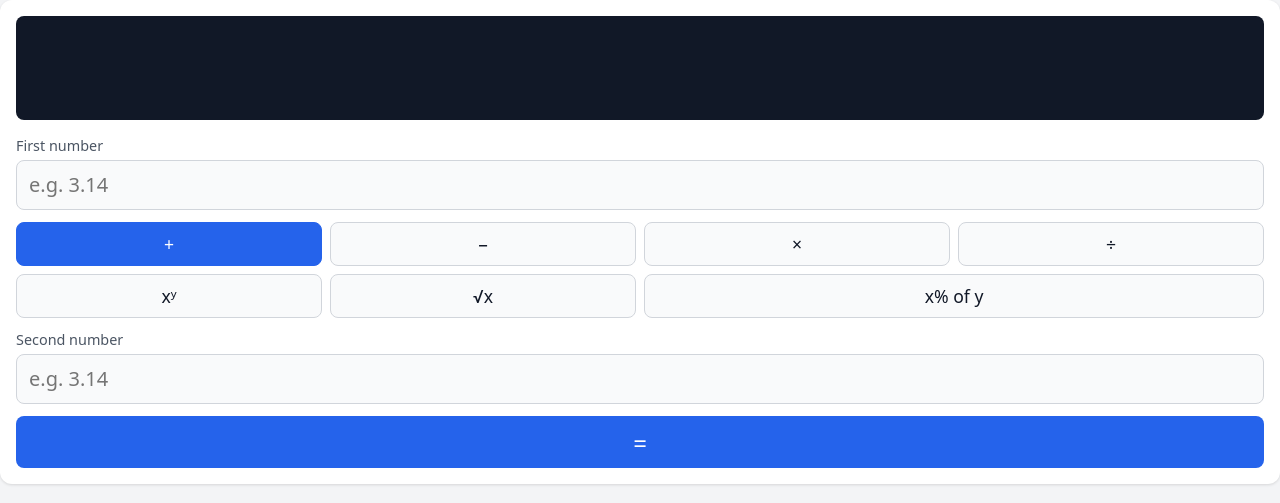
Test case: Calculator › formats float noise away
This screenshot has width=1280, height=503.
In the field labelled "First number": (640, 185) [16, 160, 1264, 210], type "0.1"
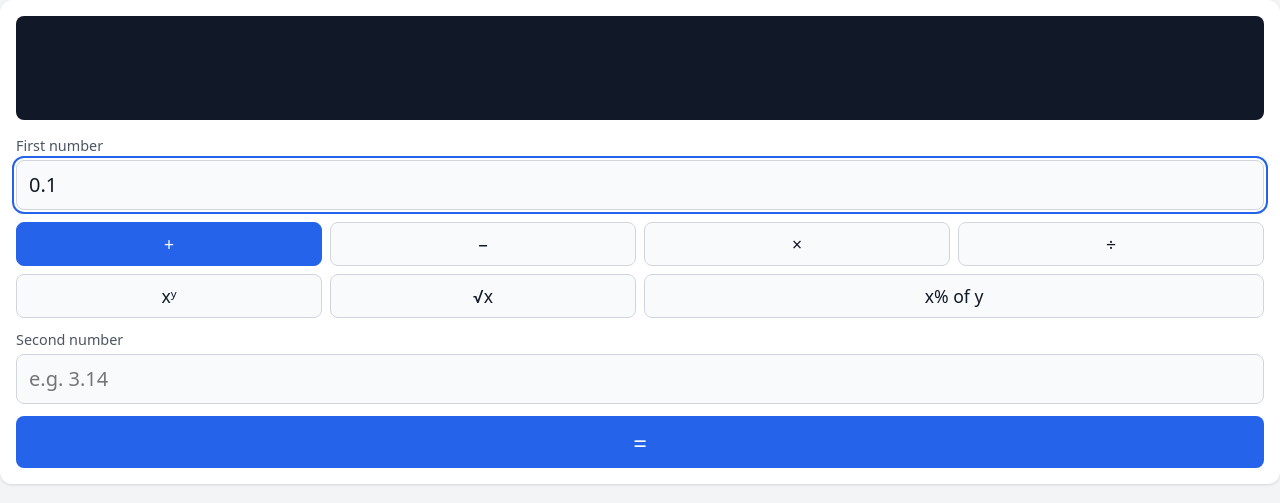
In the field labelled "Second number": (640, 379) [16, 354, 1264, 404], type "0.2"
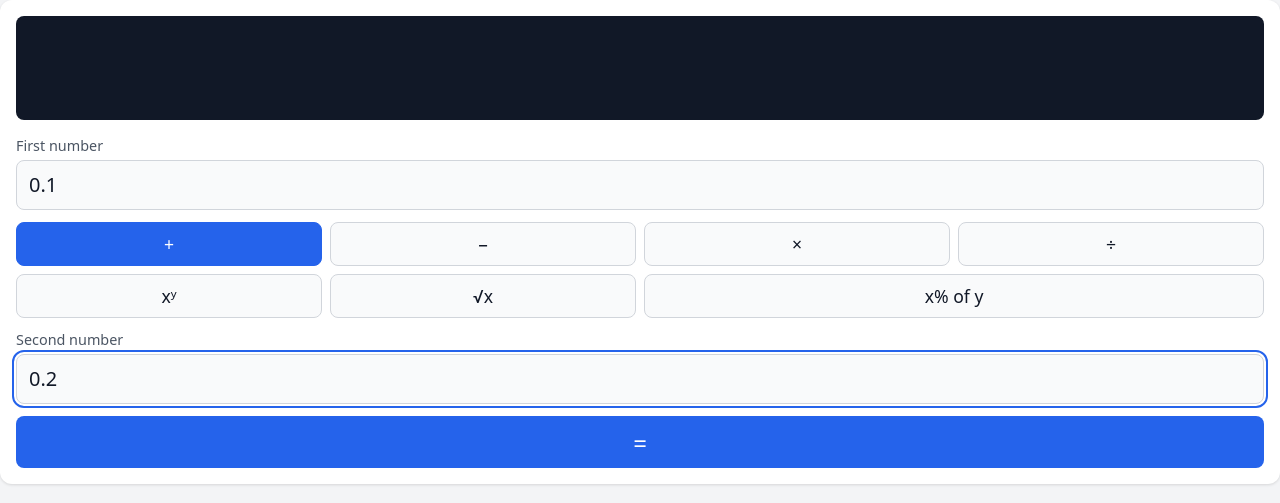
Click the button named "Calculate": (640, 442) [16, 416, 1264, 468]
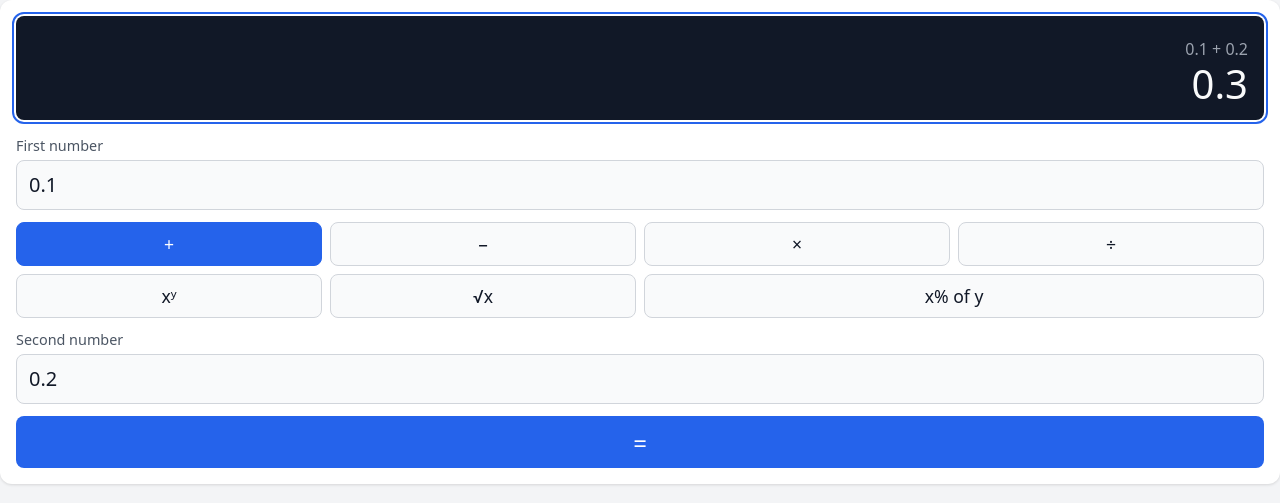
Now the text "0.3" is shown, box [1192, 56, 1248, 111]
